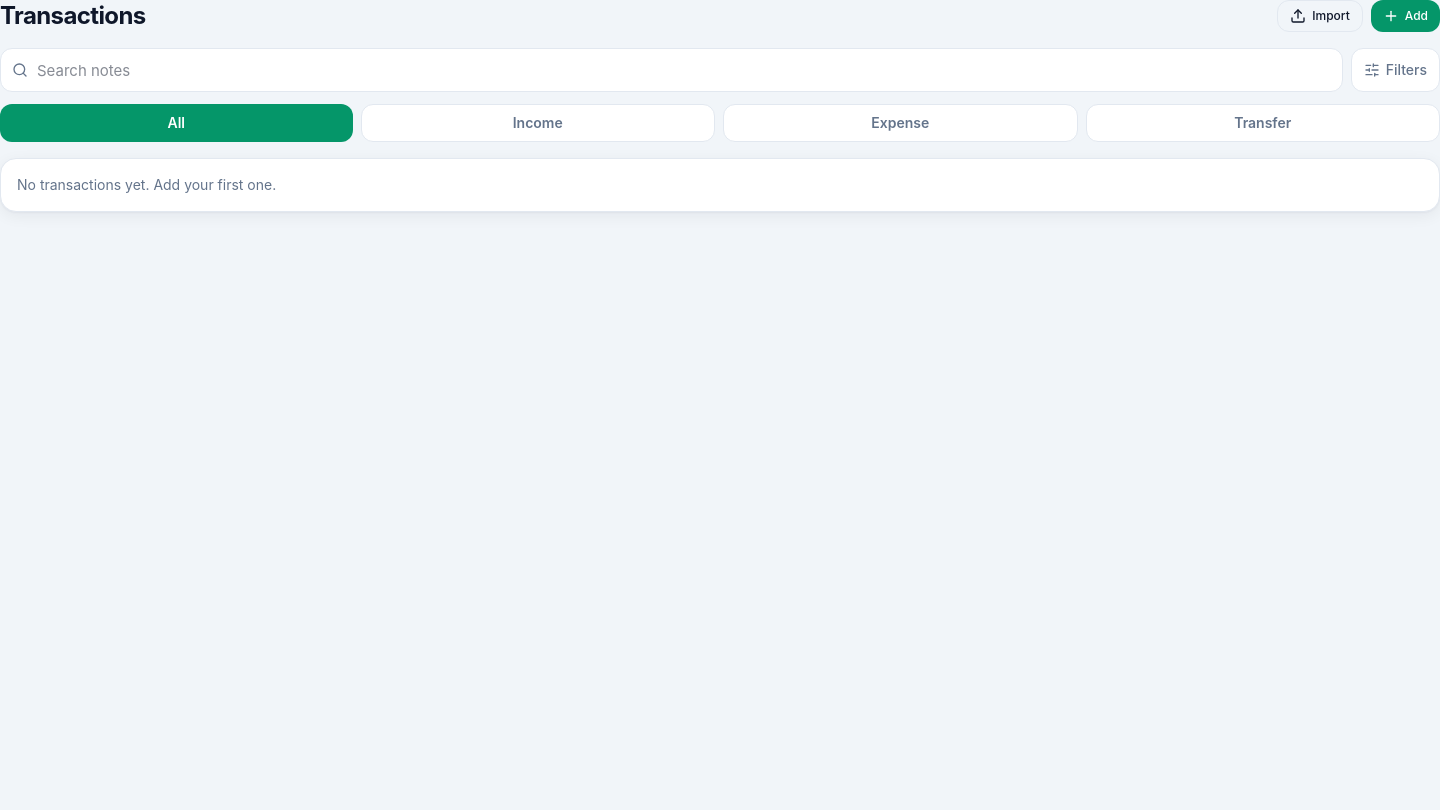
Scenario: Transactions page › records a transfer between two accounts without a category
The width and height of the screenshot is (1440, 810).
Expected: the text "No transactions yet. Add your first one." is shown, [17,176,276,193]
Step 1. Click the button "Add" → coordinates (1405, 16), box [1371,0,1439,32]
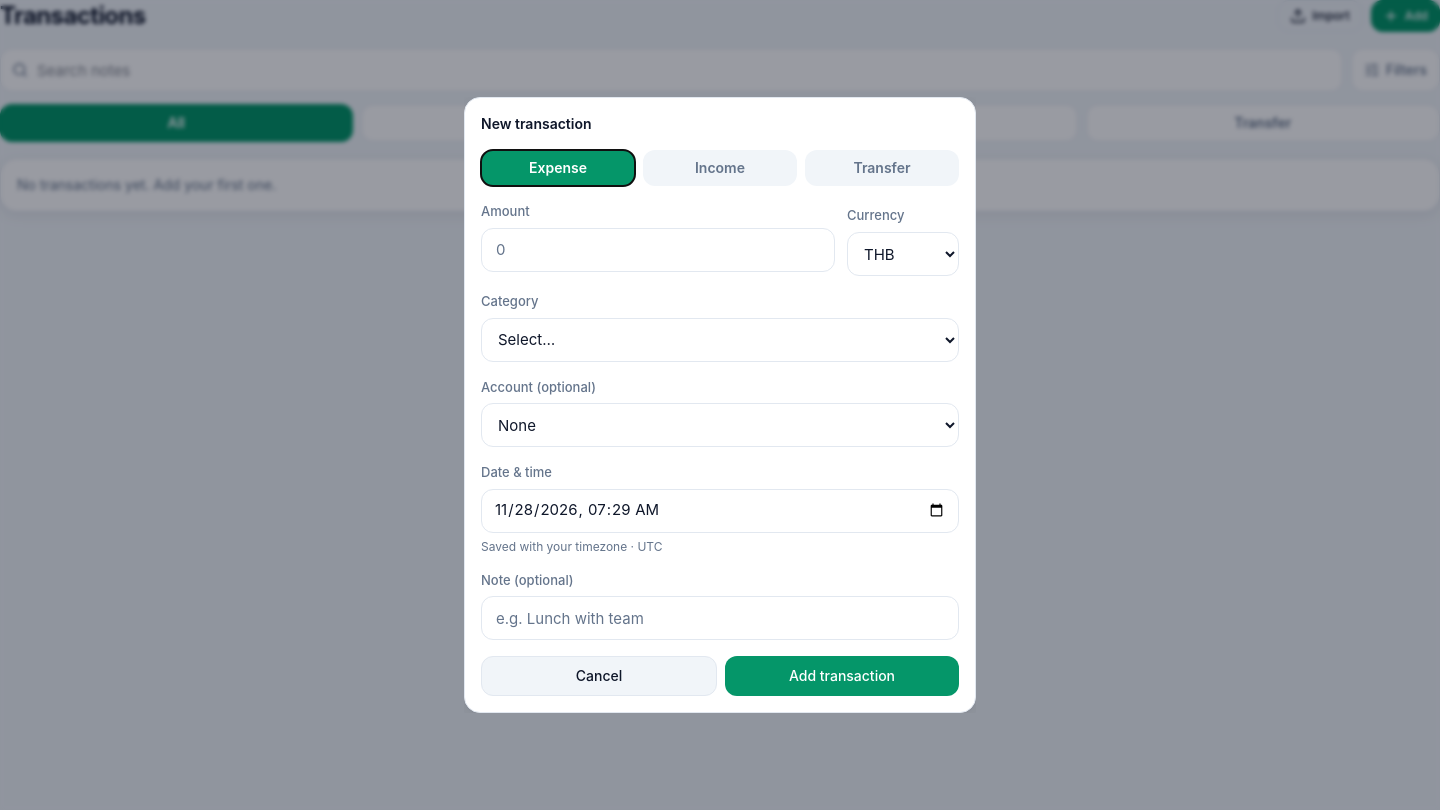
Step 2. Click the button "Transfer" → coordinates (882, 168), box [805,150,959,186]
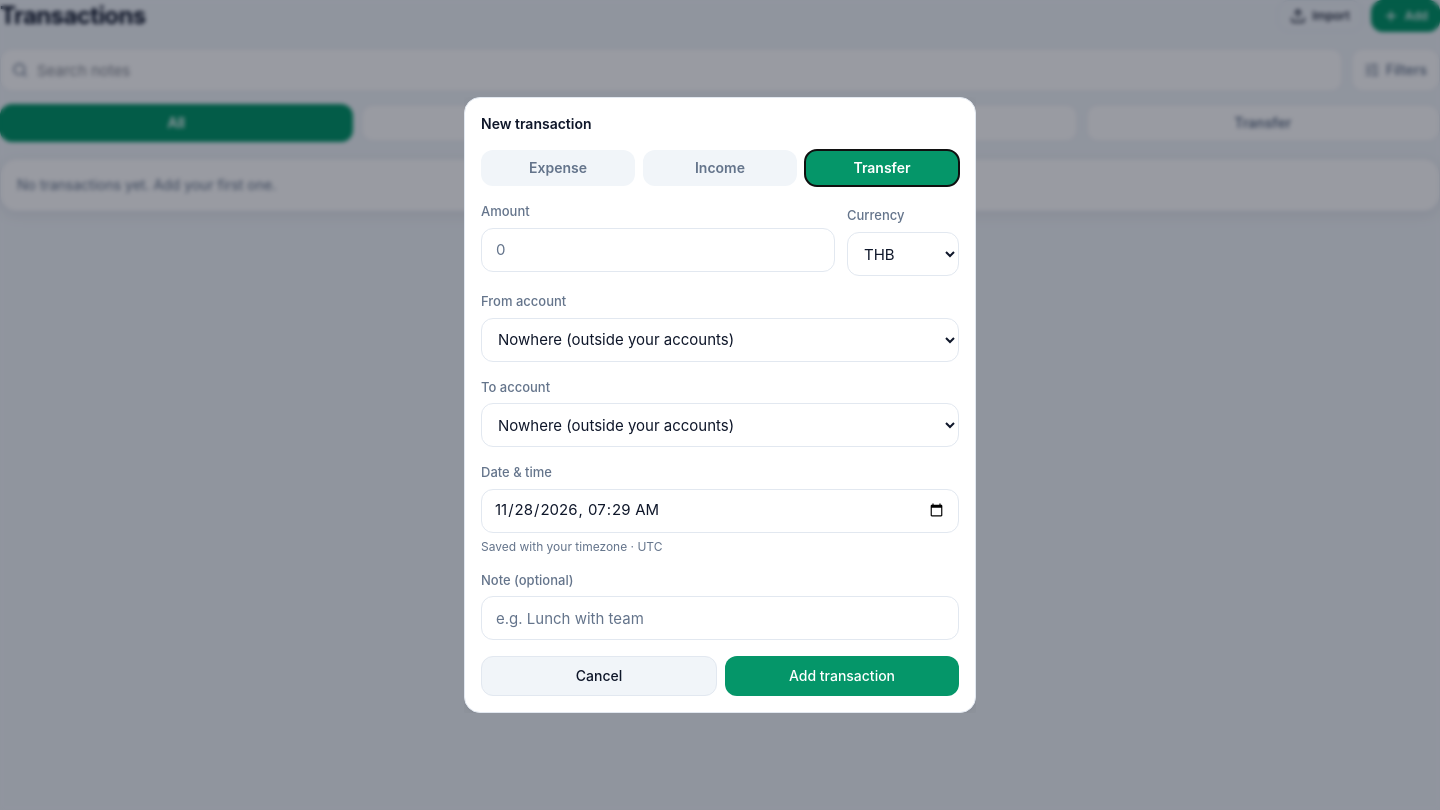
Expected: the label labelled "Category" is gone
Step 3. Type "2000" into the number field labelled "Amount" → coordinates (658, 250), box [481,228,835,272]
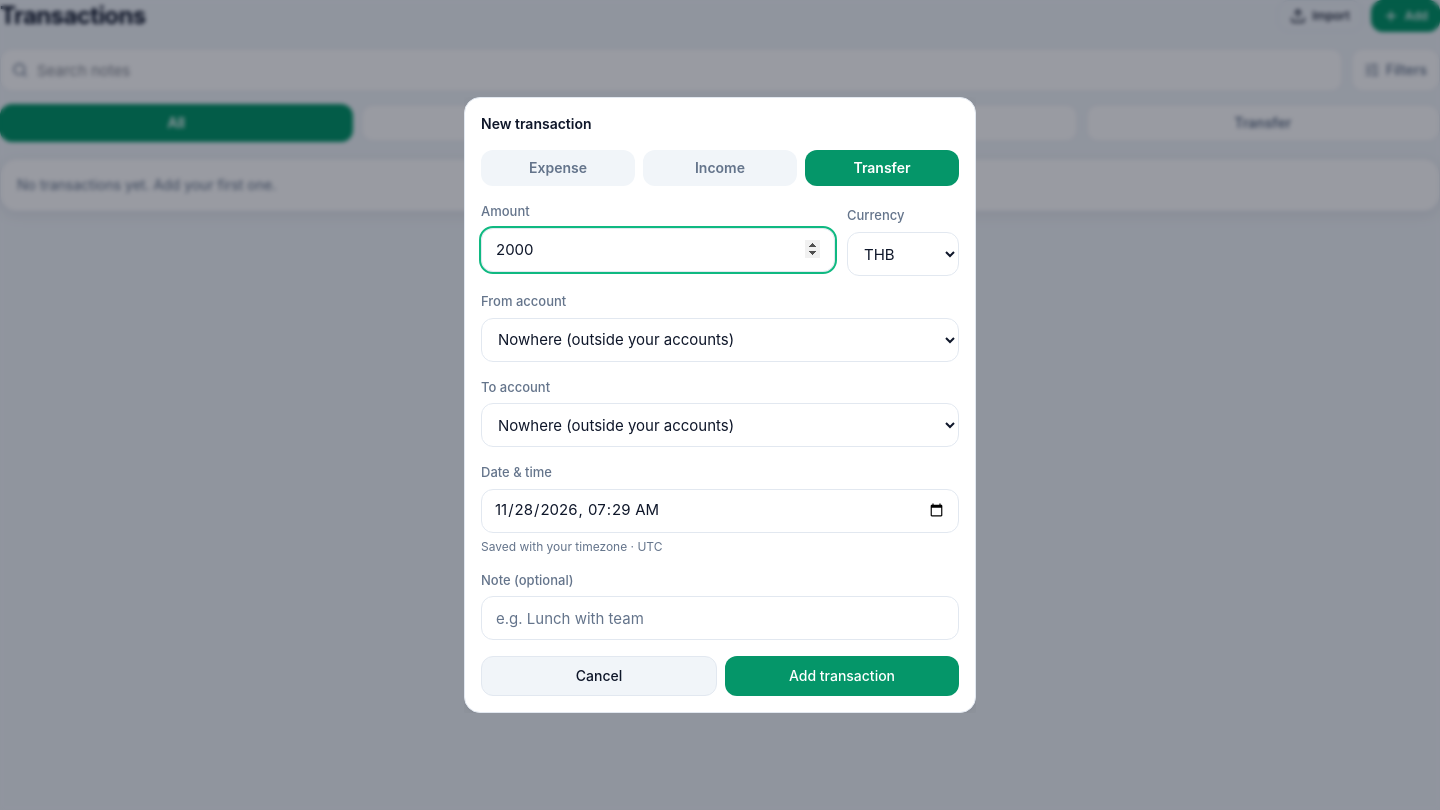
Step 4. Select "KBank Savings · Kasikornbank" in the dropdown labelled "From account" → coordinates (720, 340), box [481,318,959,362]
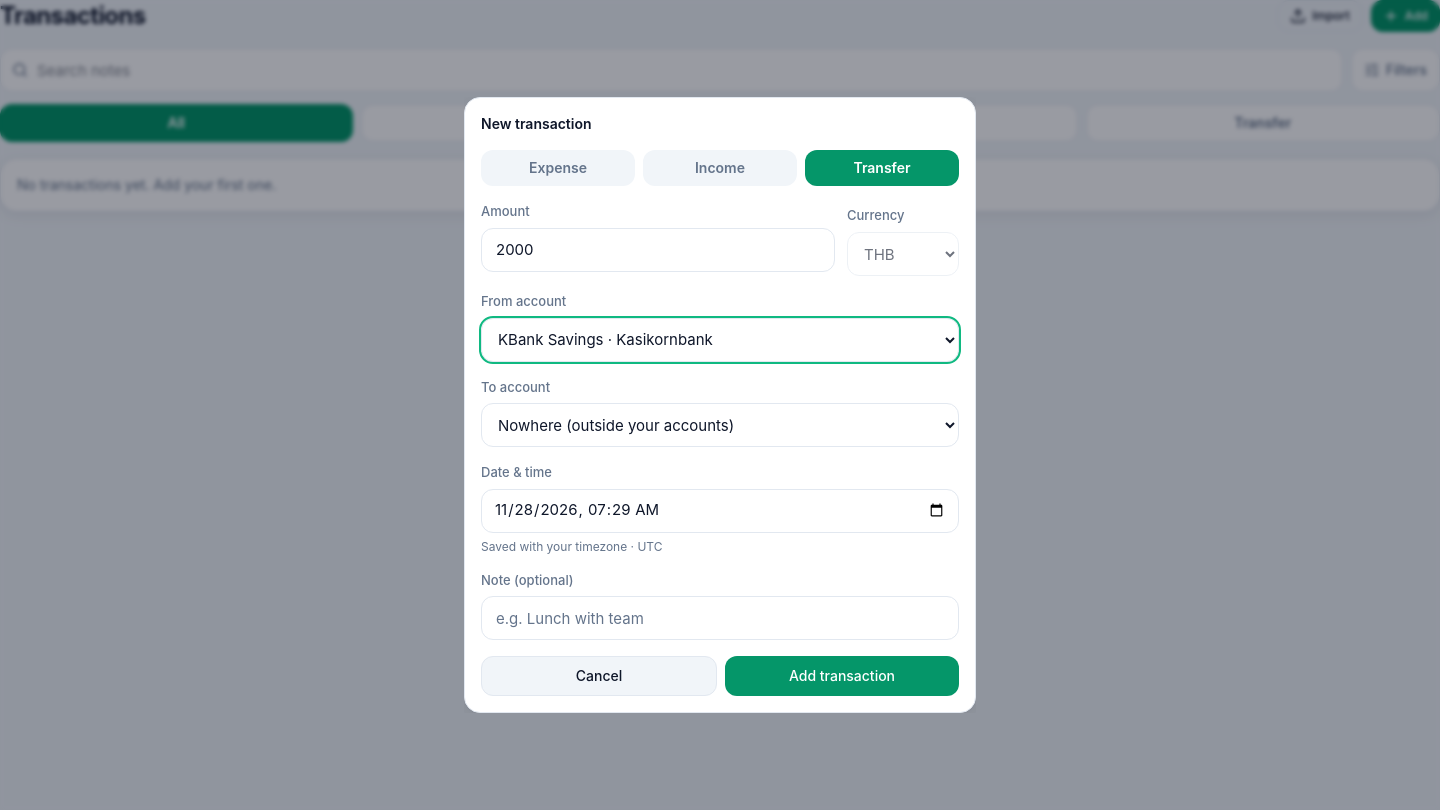
Step 5. Select "Cash Wallet" in the dropdown labelled "To account" → coordinates (720, 425), box [481,403,959,447]
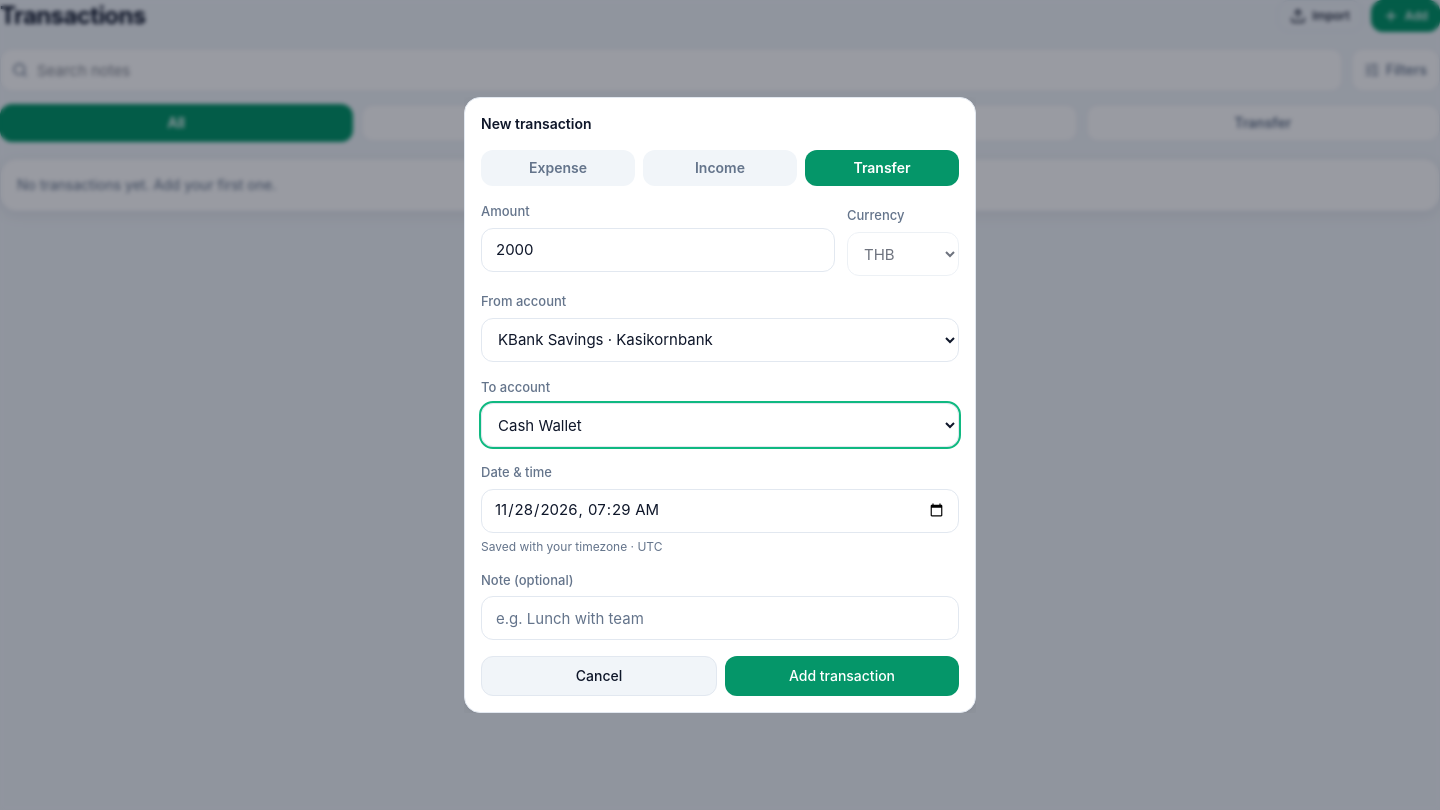
Step 6. Click the button "Add transaction" → coordinates (842, 676), box [725,656,959,696]
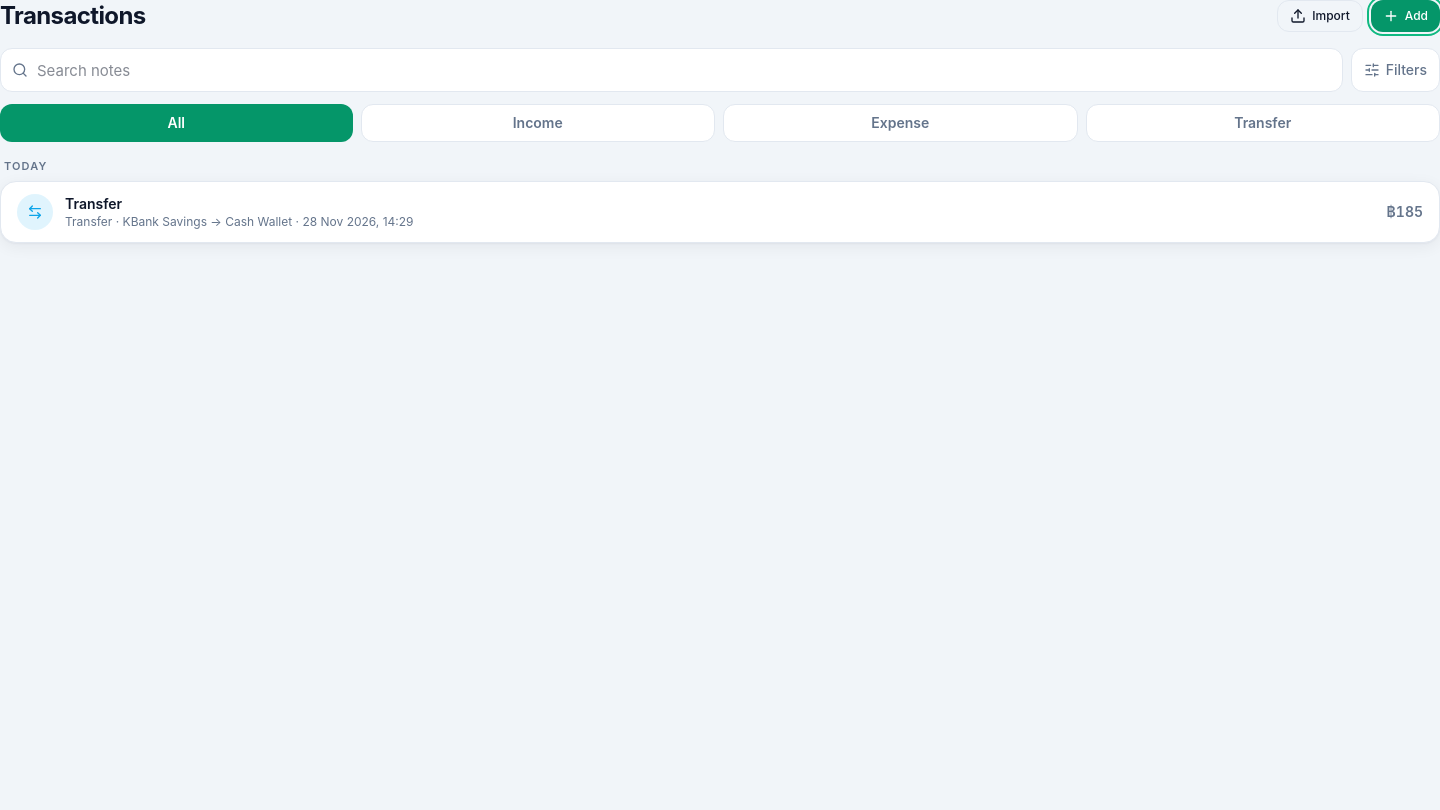
Expected: the text "Transfer · KBank Savings → Cash Wallet · 28 Nov 2026, 14:29" is shown, [65,214,414,228]
